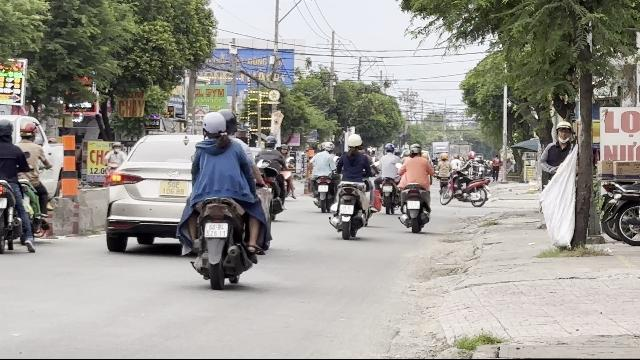helmet: (200, 110, 226, 140), (216, 108, 238, 138), (16, 117, 38, 141), (1, 116, 16, 142)
licenseplate: (205, 223, 227, 237), (0, 197, 6, 207)
motorcyclist: (175, 108, 271, 288), (0, 114, 38, 252)
